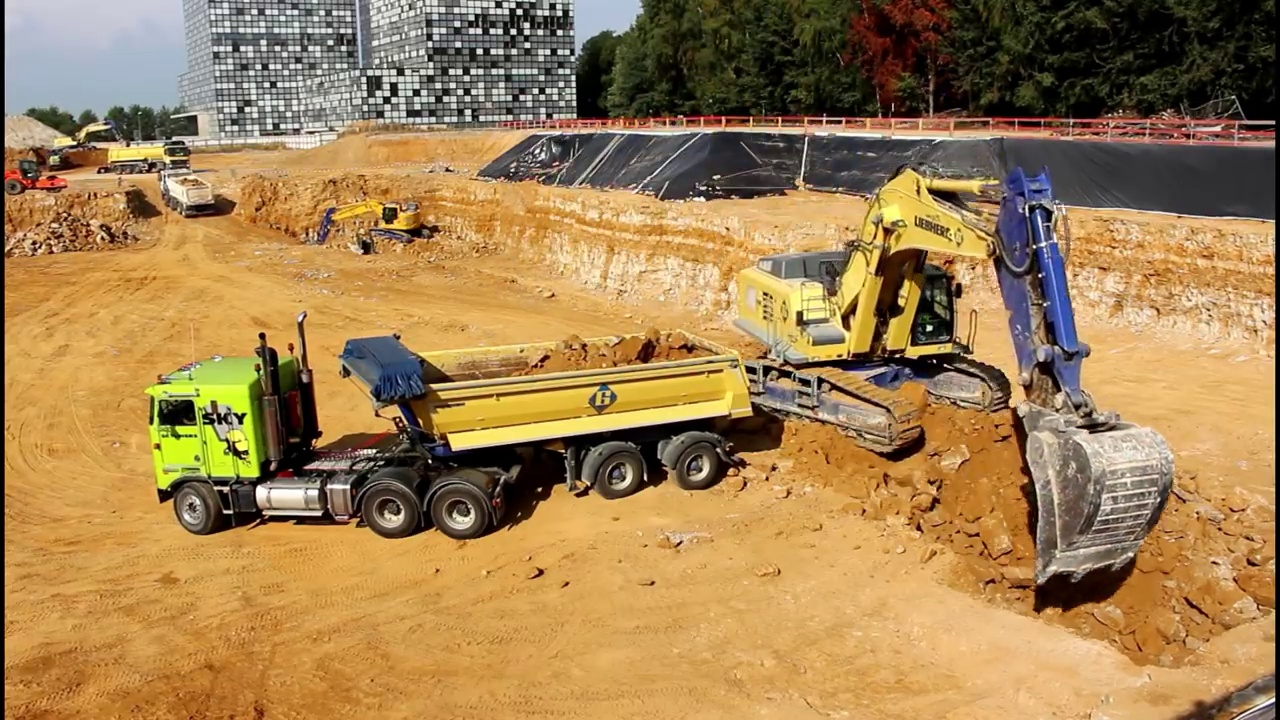compactor: (2, 157, 68, 196)
excavator: (719, 161, 1173, 590), (301, 198, 442, 257), (47, 119, 130, 164)
truck: (142, 309, 760, 547), (154, 164, 222, 221), (101, 140, 195, 175)
